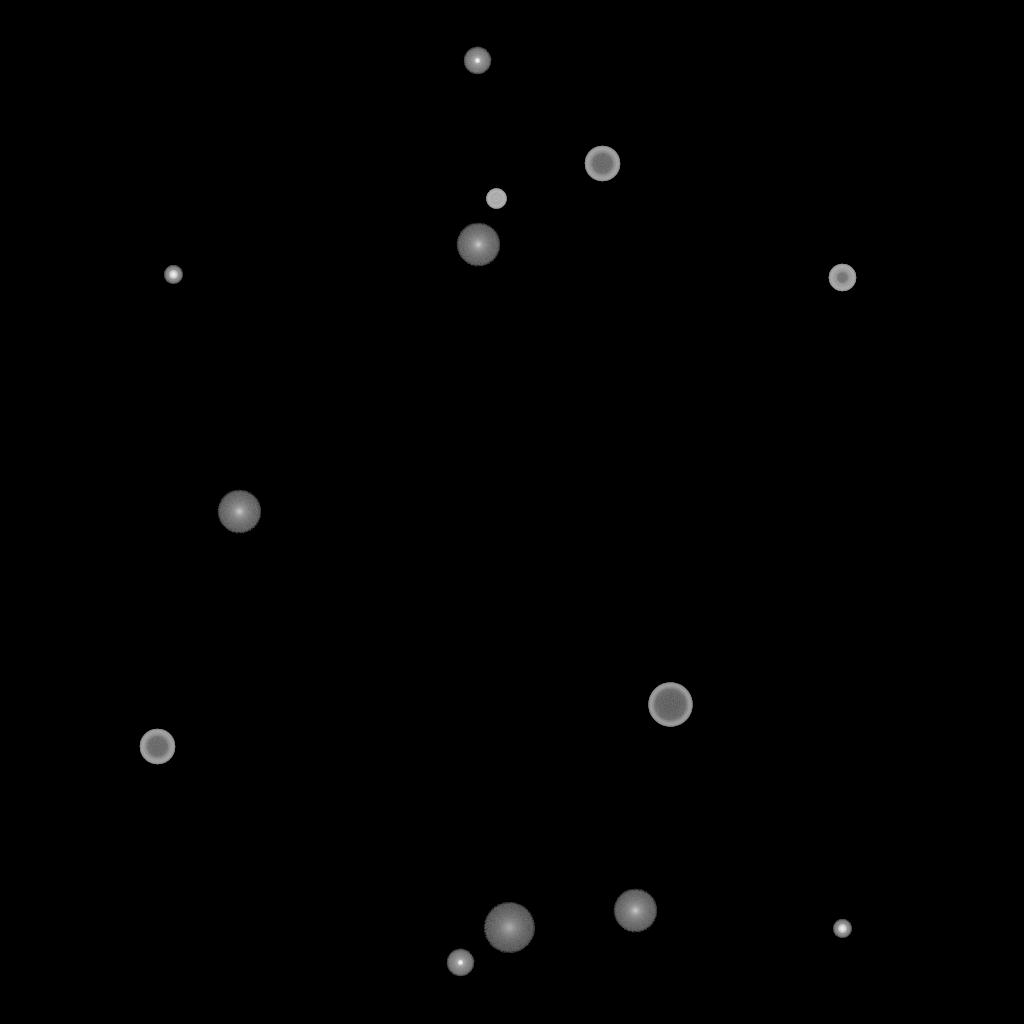depth:-10: (446, 949, 474, 977), (463, 47, 491, 75)
depth:-20: (164, 266, 182, 284), (833, 920, 851, 938)
depth:-40: (486, 189, 506, 209)
depth:-50: (828, 264, 856, 292)
depth:-60: (584, 146, 620, 182), (139, 729, 175, 765)
depth:-70: (648, 683, 692, 727)
depth:10: (217, 490, 261, 534), (613, 889, 657, 933), (456, 223, 500, 267)
depth:20: (483, 903, 535, 953)
